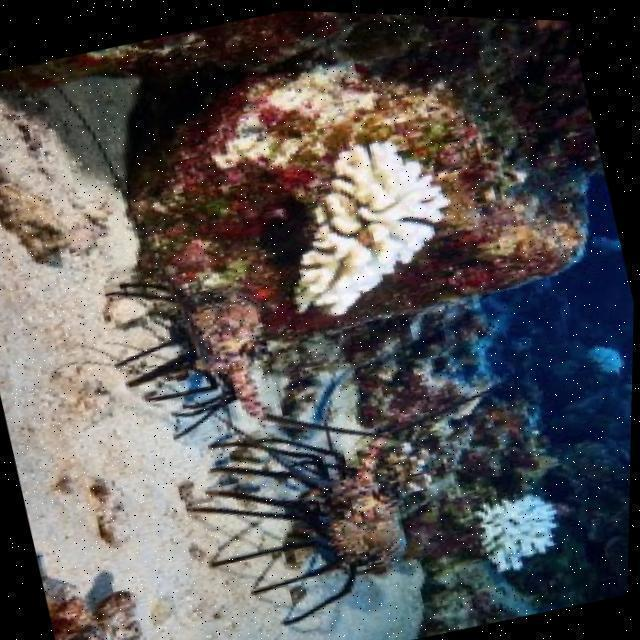Bleached Coral: (296, 152, 437, 315), (475, 482, 559, 573)
